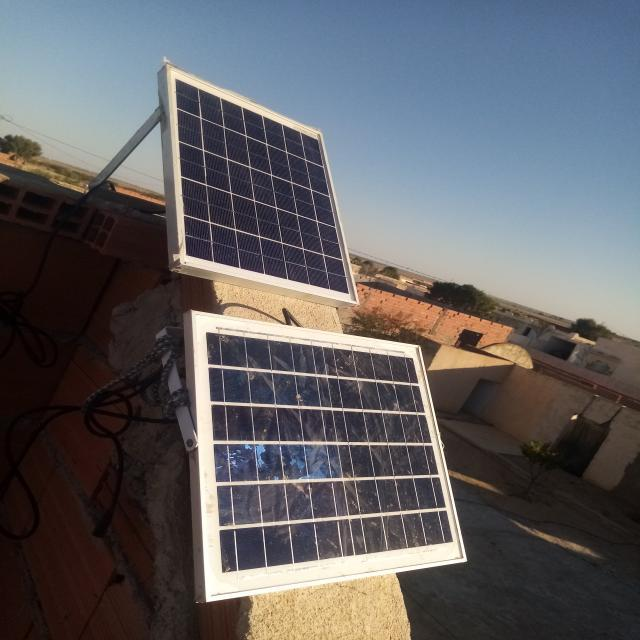faulty: (191, 315, 468, 602)
no faulty: (167, 66, 360, 304)
